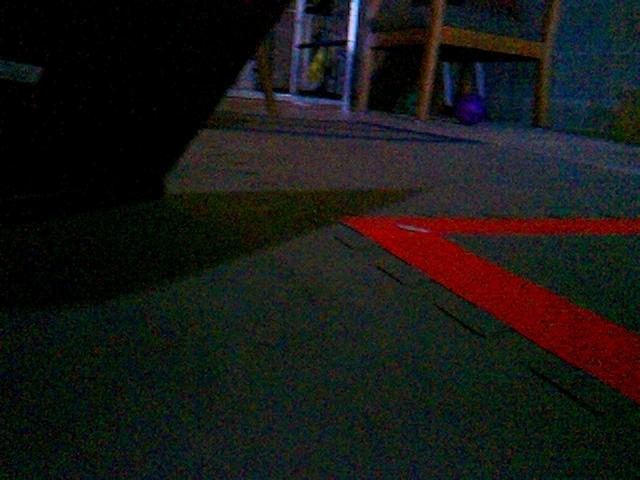Green: (400, 90, 423, 117)
Purple: (452, 91, 488, 126)
